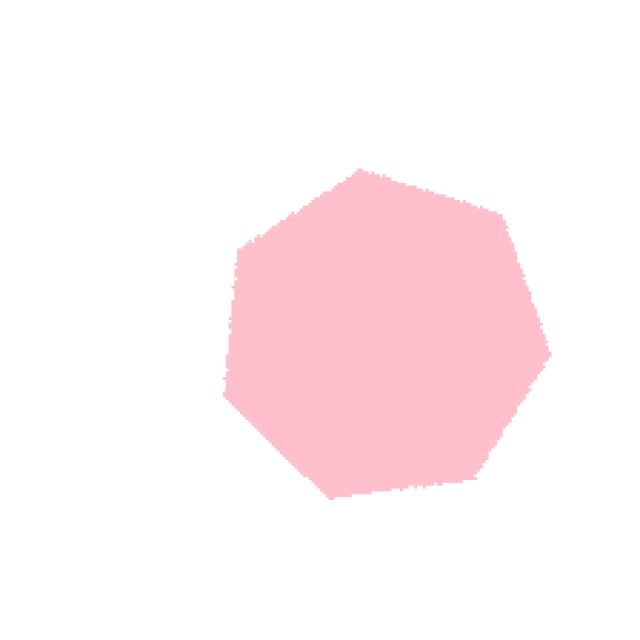Heptagon: (167, 137, 576, 523)
